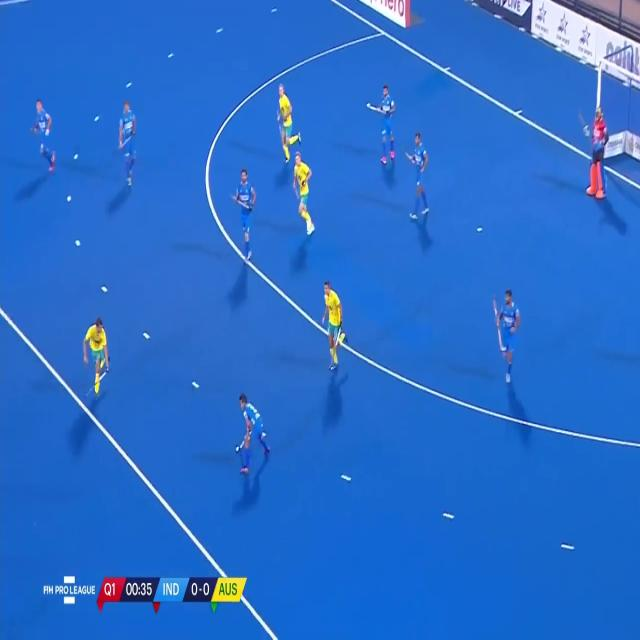ball: (233, 442, 241, 457)
